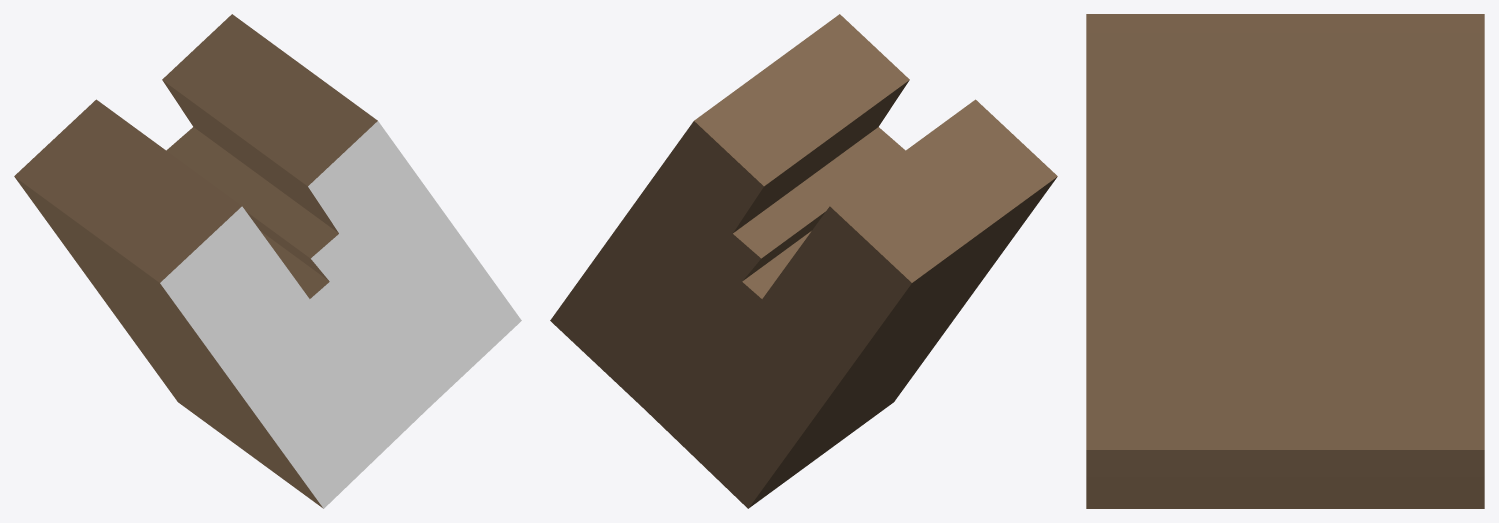
The picture shows the model from 3 angles, left to right: view 1: azimuth 30°, elevation 25°; view 2: azimuth 150°, elevation 25°; view 3: azimuth 270°, elevation 25°; orthographic projection. The views are drawn at different scales.
Parts seen in each view (by area): view 1: City_1565410; view 2: City_1565410; view 3: City_1565410.
Boxes of the visible parts, bbox=[...] form: City_1565410: bbox=[14, 14, 521, 508]; City_1565410: bbox=[550, 14, 1057, 508]; City_1565410: bbox=[1086, 14, 1484, 508].
Bounding box in the file's own units: 1977 × 1957 × 1380.
